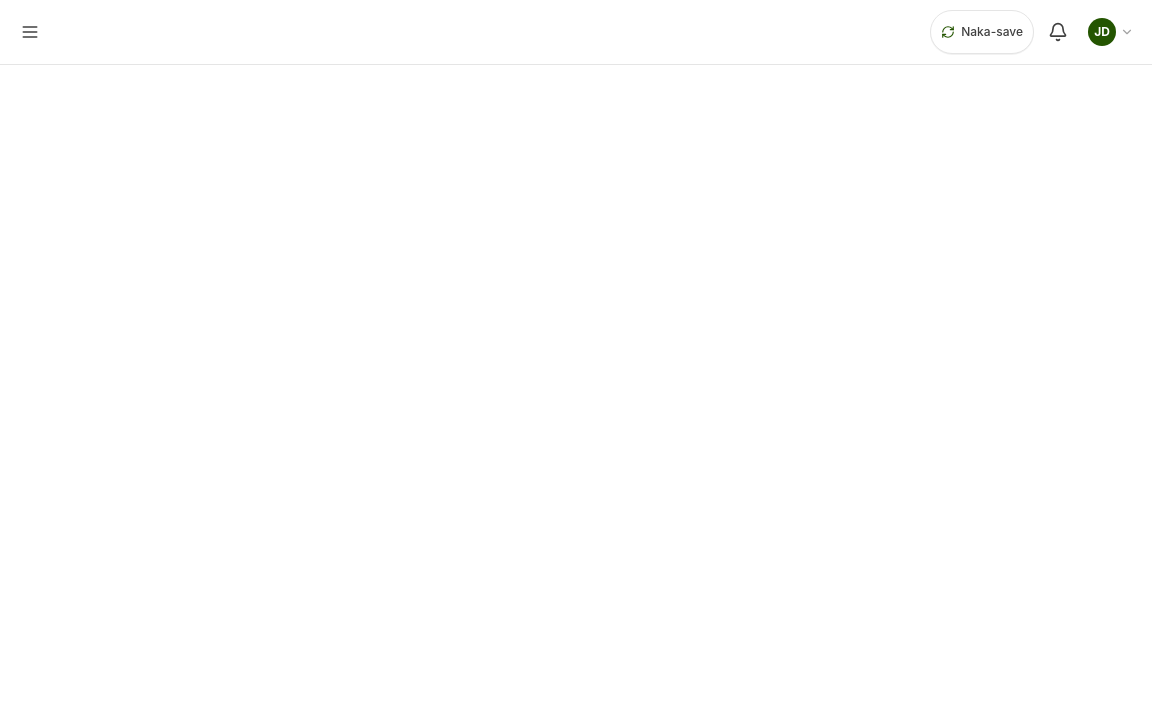
Test: TopBar Offline Data Status & Sync handling › closes the popover when pressing Escape
Click the button "Naka-save". click: (982, 32)
box: [930, 10, 1034, 54]
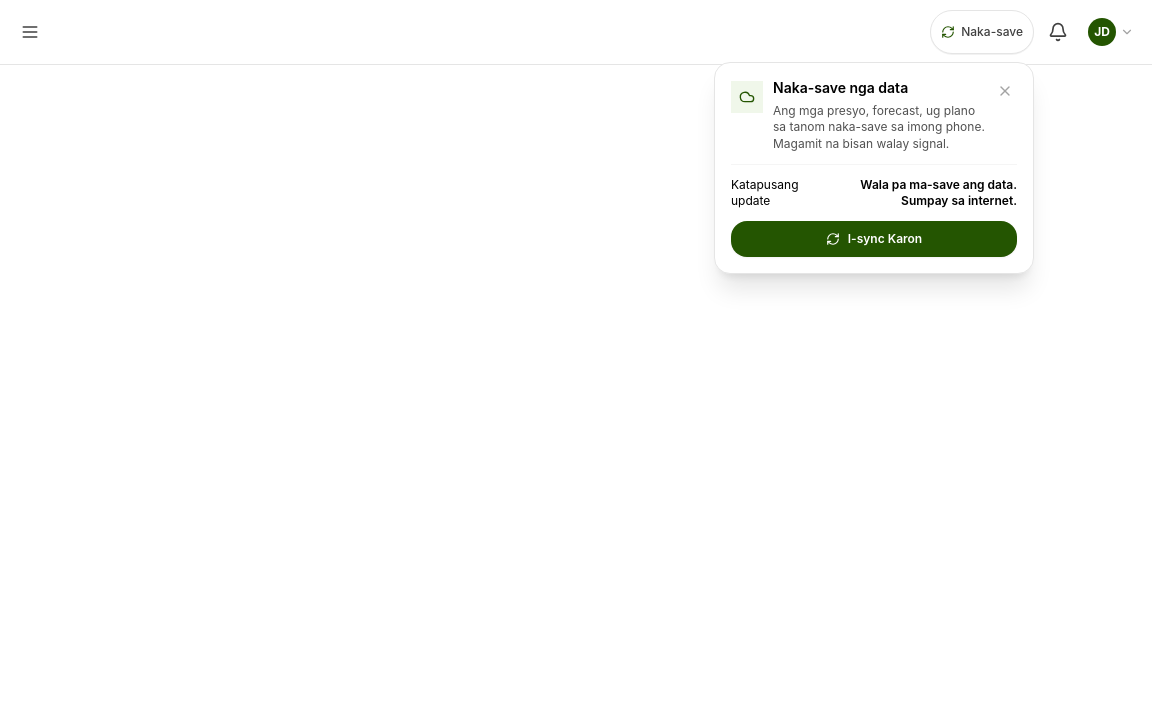
Expected: the dialog is shown, [714, 62, 1034, 274]
Press Escape
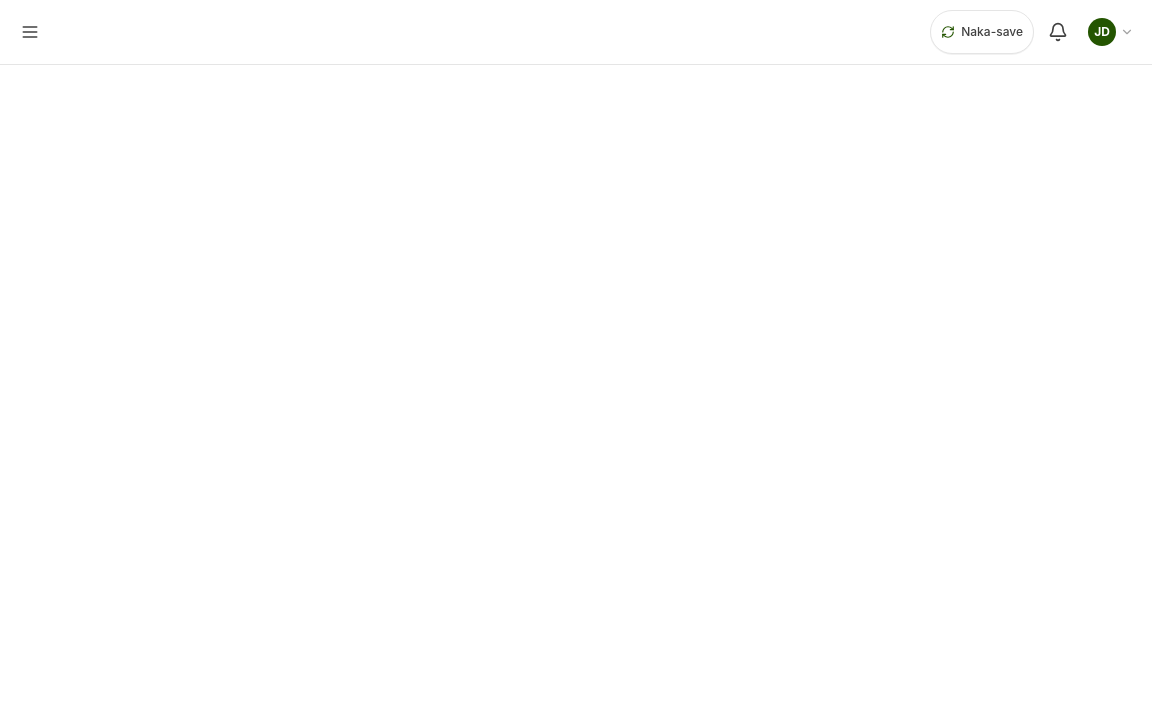
Expected: the dialog is gone
